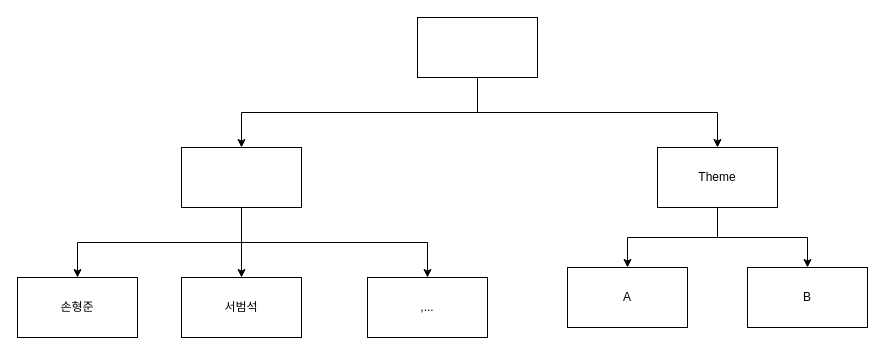
Some shapes in this 885 by 355 pixel diagram are drawn without their labels. The shapes that lost their labels are listed below. From the top down, each one's centre as x and y in pixels, then its label:
At point (477, 47): "Develop".
At point (241, 177): "Test".
